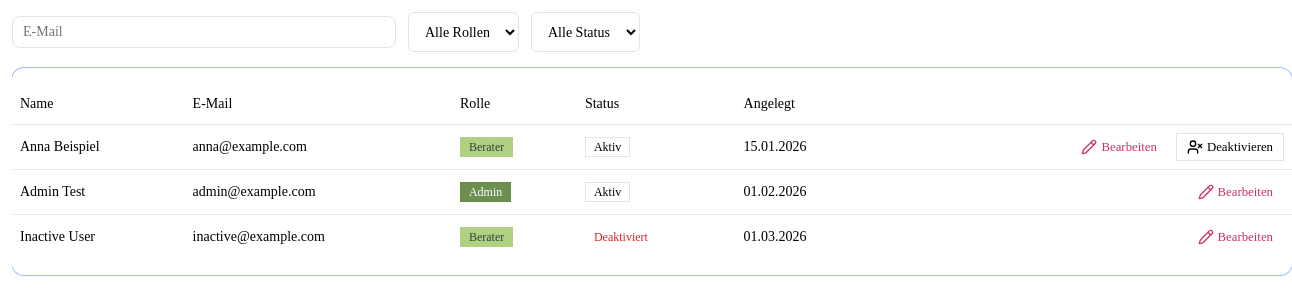
Test: UsersTable › filters by active state via the state <select>
The image size is (1292, 293).
Select "Deaktiviert" in the dropdown named "Status" at (586,32), box [531, 12, 640, 52]
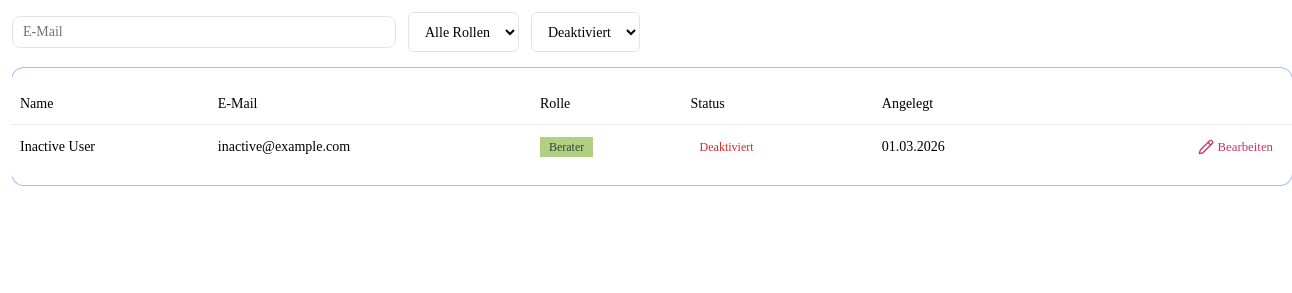
expect the text "Anna Beispiel" is gone: met
expect the text "Inactive User" is shown: met, box [12, 124, 210, 168]
